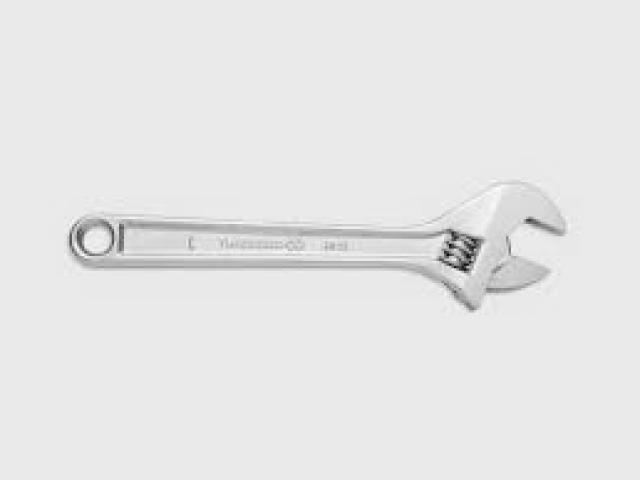Adjustable spanner: (69, 181, 565, 308)
